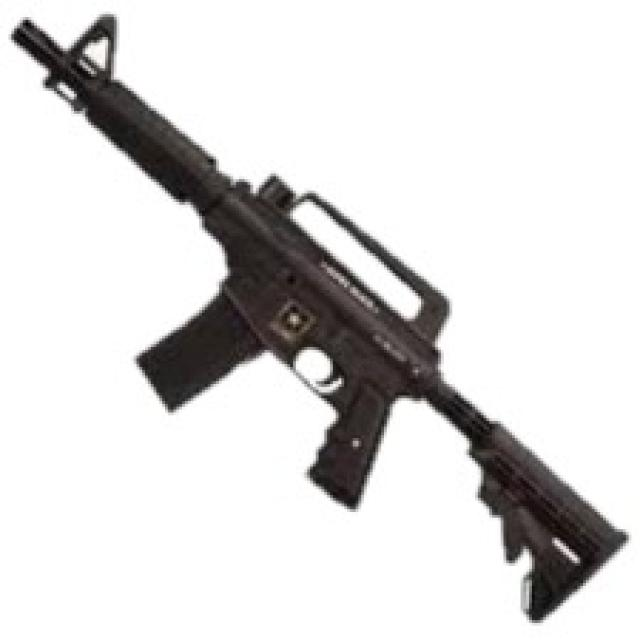rifle: (8, 10, 640, 623)
